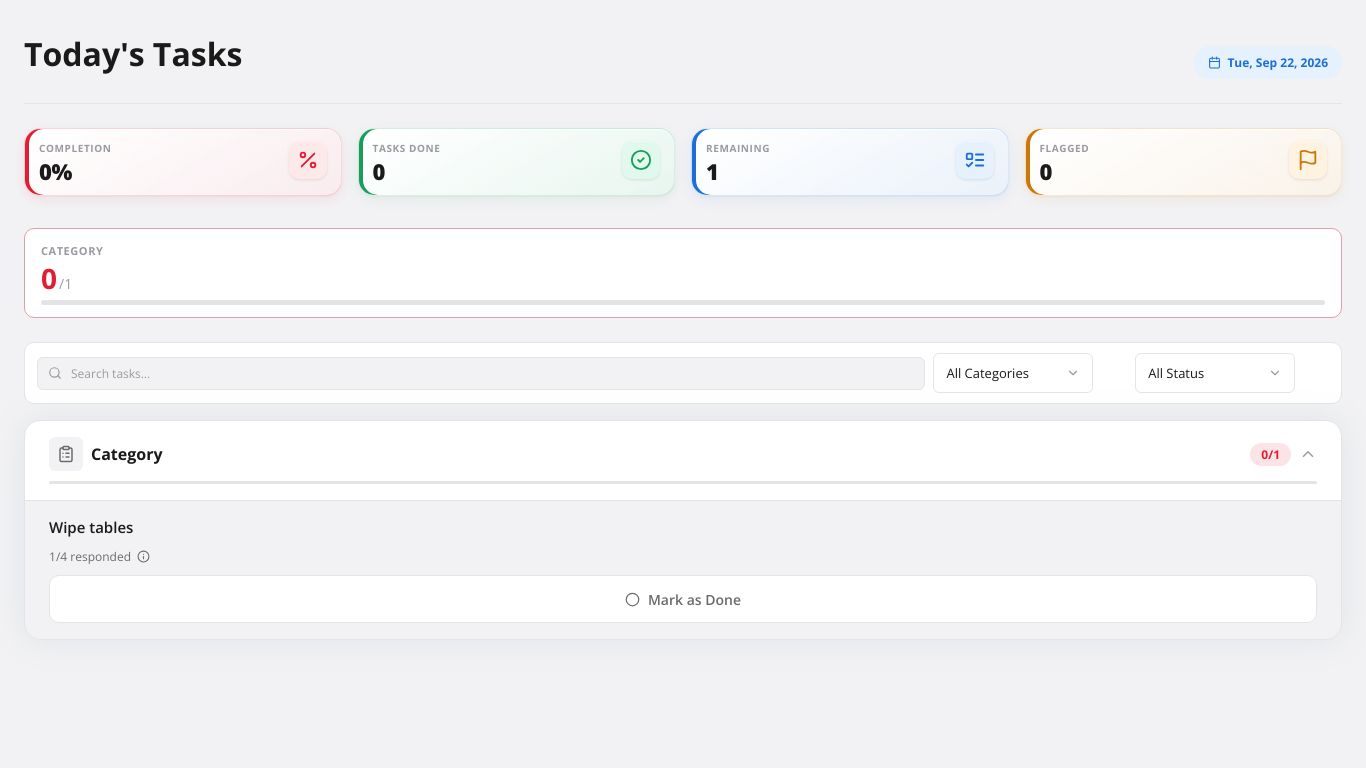
Employee Checklist "X/Y Completed By" display › also shows the info tooltip on click, for touch devices
Click the button named "who completed wipe tables today" at [144, 557], box 137,550 -> 150,563
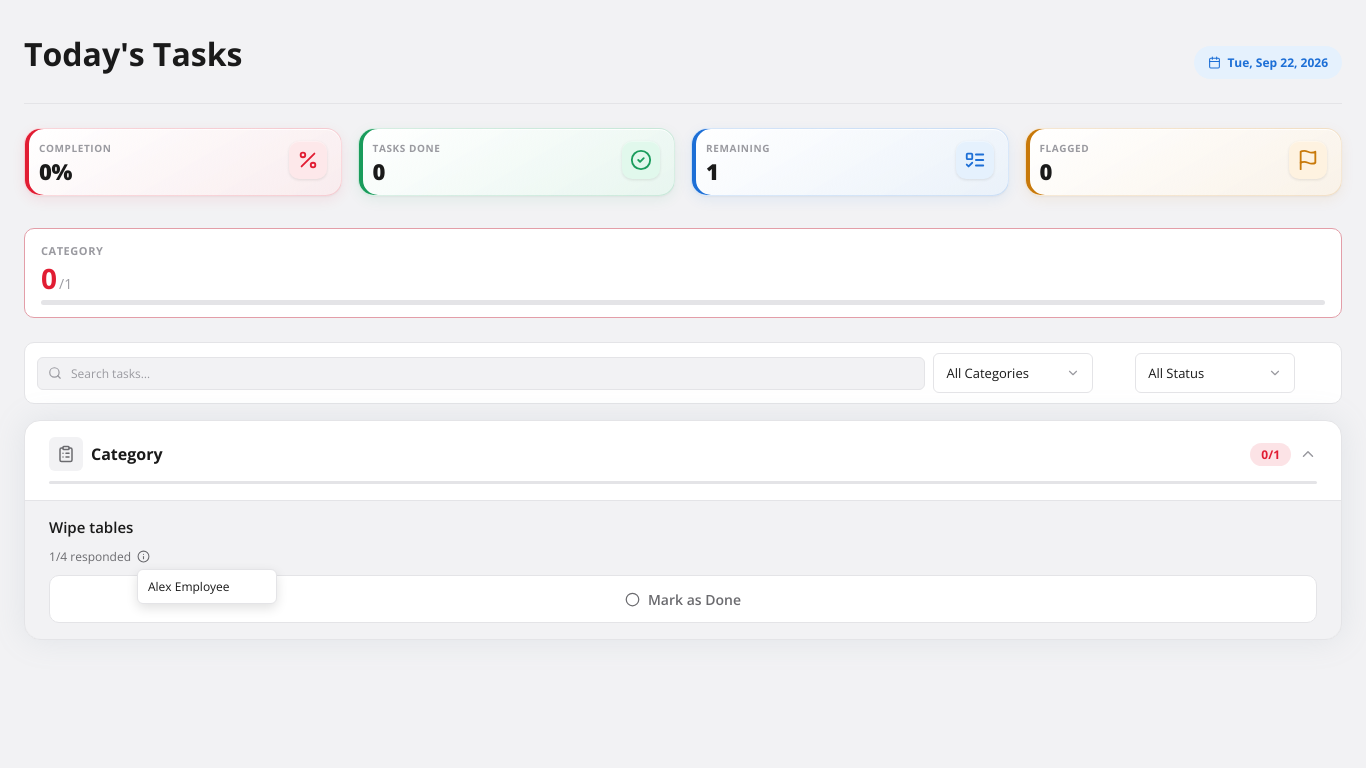
Expected: the tooltip reads "Alex Employee", 148,578 -> 230,595
Click the button named "who completed wipe tables today" at [144, 557], box 137,550 -> 150,563
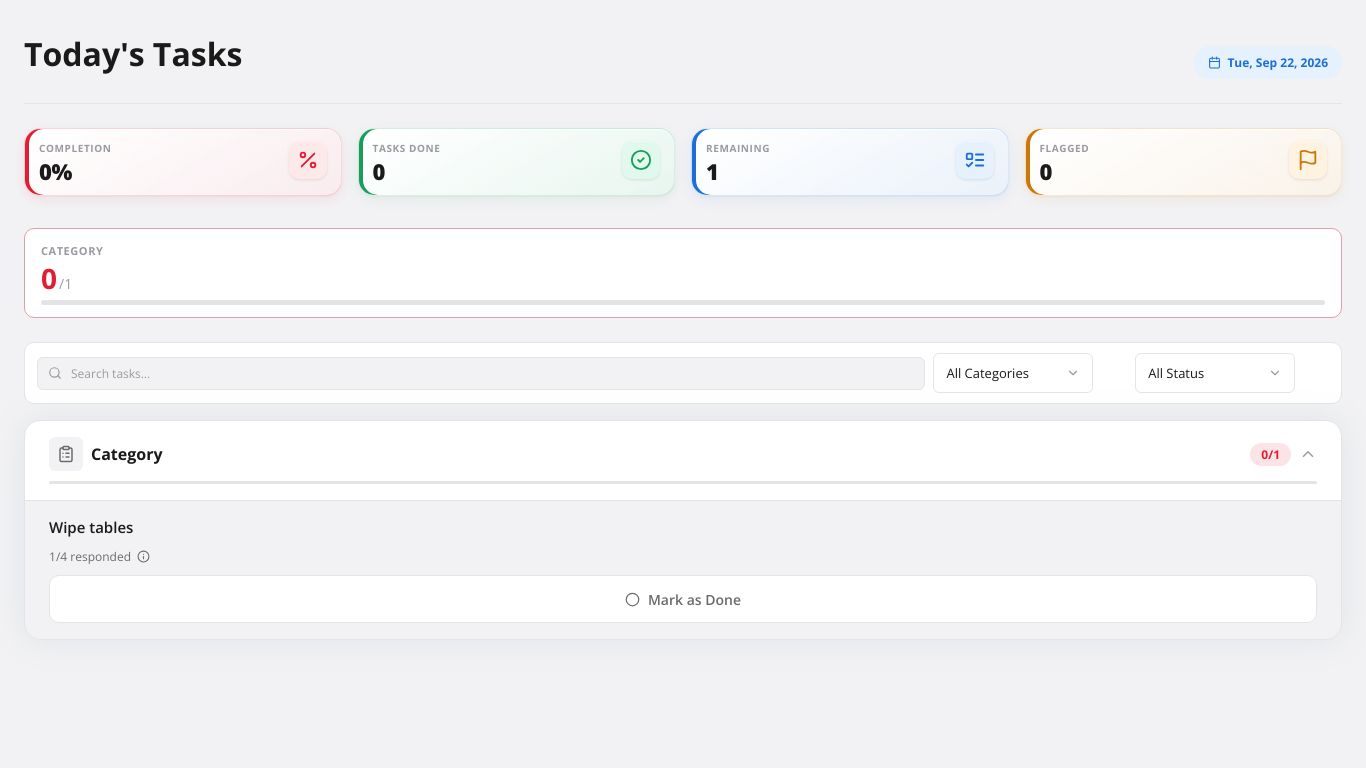
Expected: the tooltip "Alex Employee" is gone
